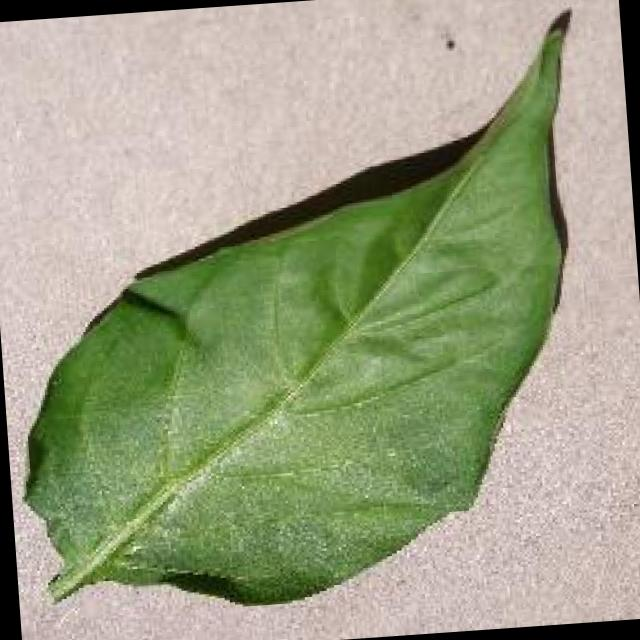Chilli_Healthy: (0, 4, 611, 621)
